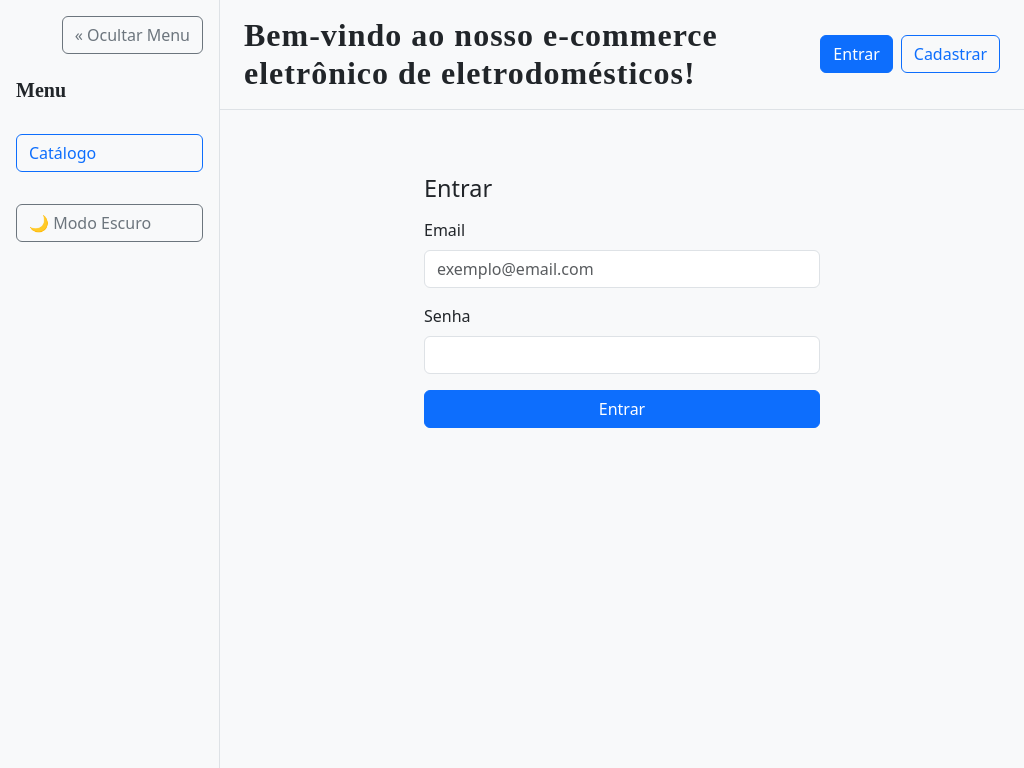
Test: Login de Usuário › deve mostrar erro com email inválido
The image size is (1024, 768).
Type "emailinvalido" into the field named "email" at (622, 269), box x1=424 y1=250 x2=820 y2=288
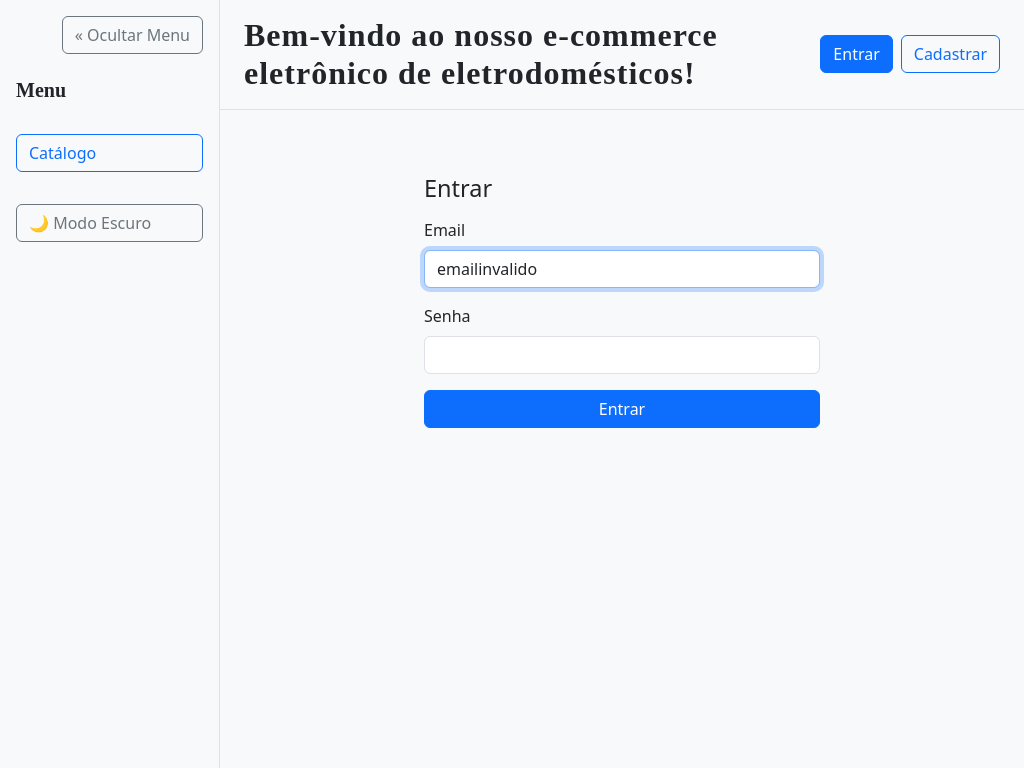
Type "senha123" into the password field named "senha" at (622, 355), box x1=424 y1=336 x2=820 y2=374
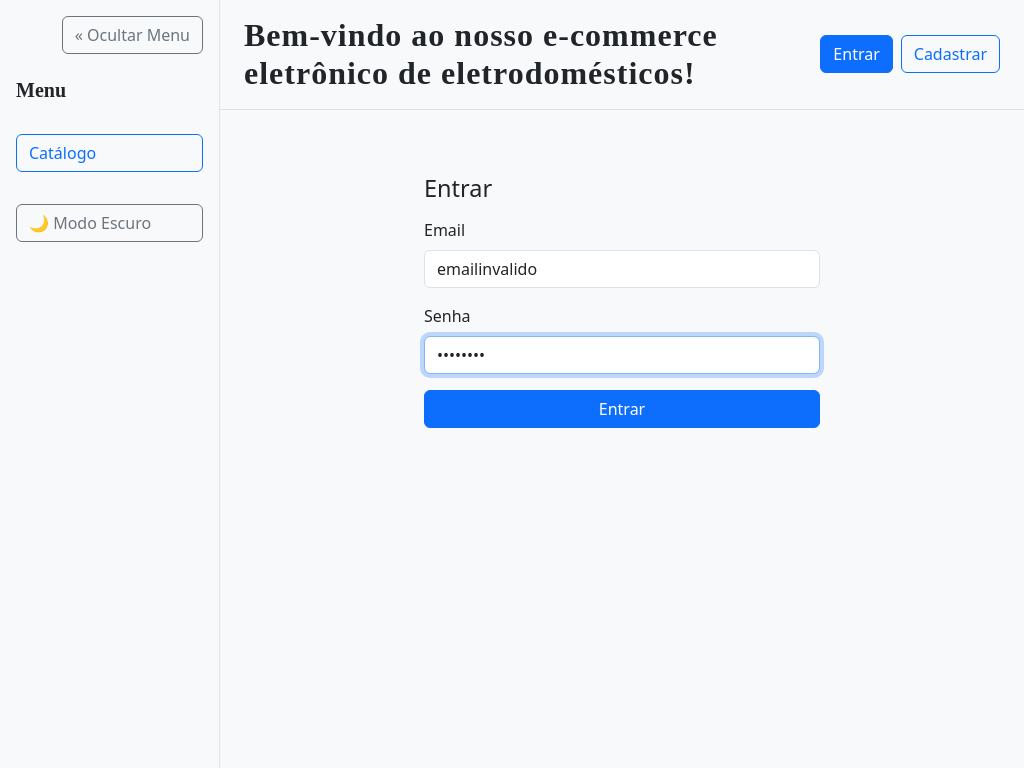
Click the button named "submit" at (622, 409), box x1=424 y1=390 x2=820 y2=428
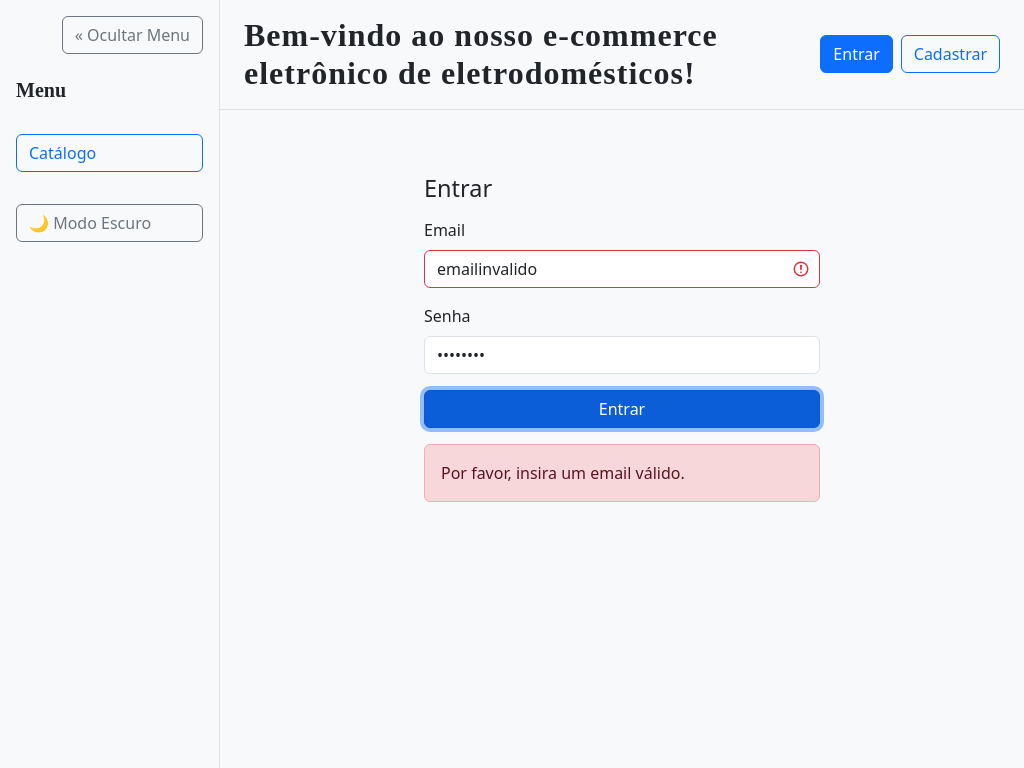
Now the text "email válido" is shown, box x1=441 y1=462 x2=685 y2=484
